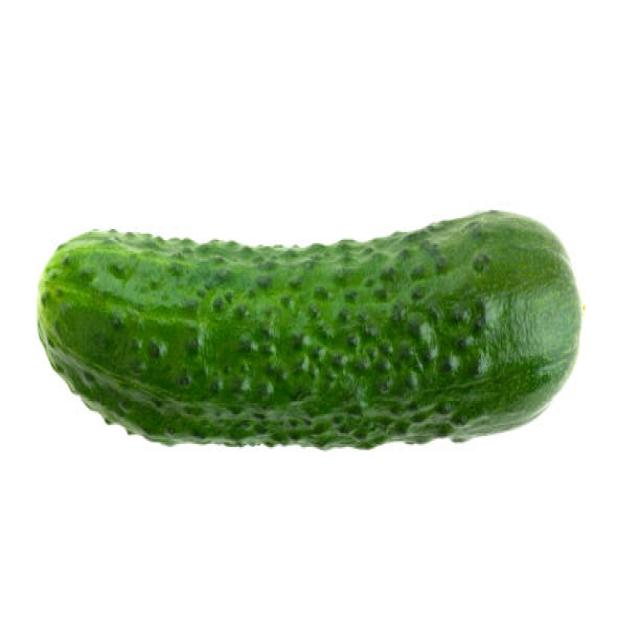cucumber: (35, 208, 580, 451)
